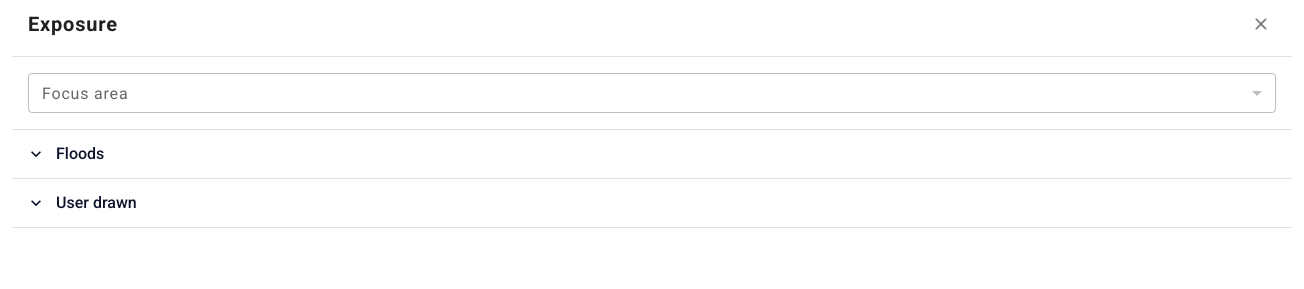
it: ExposureView › Spatial Relation Badges › displays "In area" badge for contained layers
Expected: the text "Floods" is shown, [56,144,104,163]
Click the button "Floods" at (80, 154), box [12,130,1292,178]
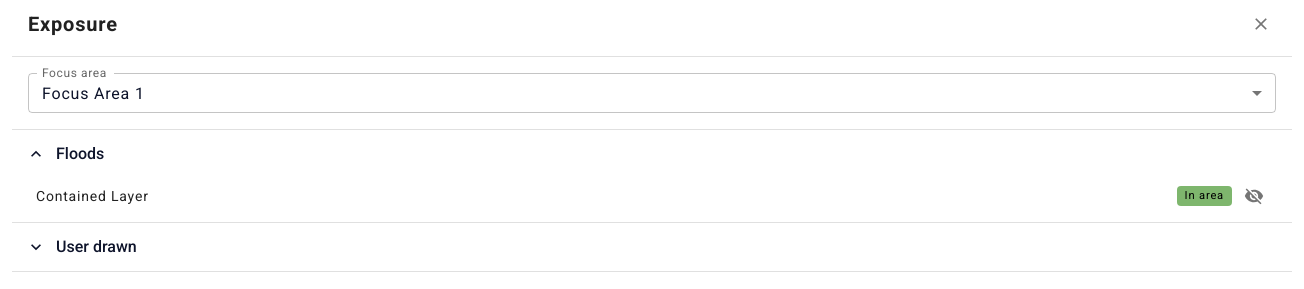
Expected: the text "Contained Layer" is shown, [36,188,149,204]
Expected: the text "In area" is shown, [1177,186,1232,206]
